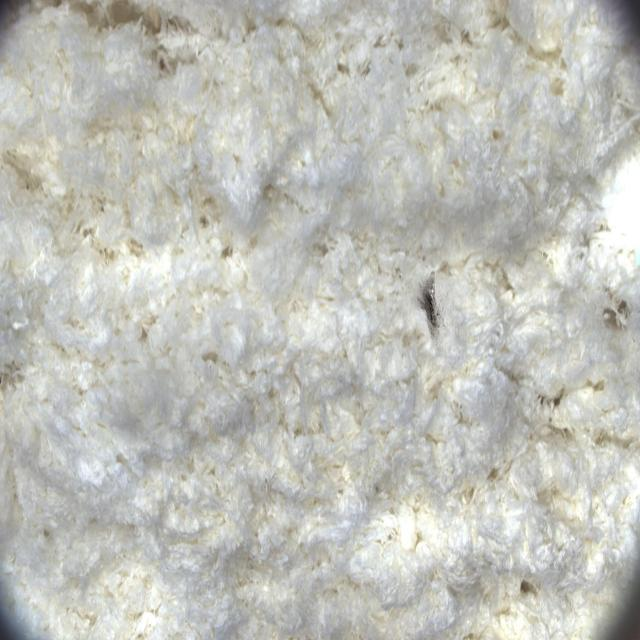dust: (392, 258, 467, 357)
